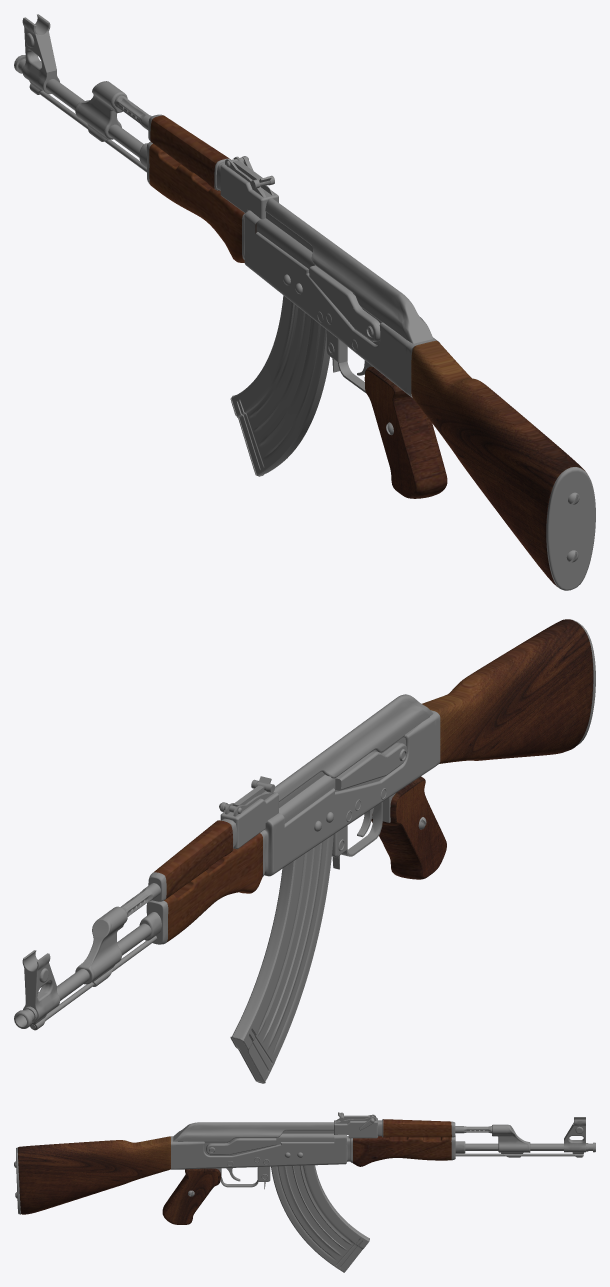
Rendered from ak-47-kalashnikov.fbx.
3 views of the same model, one above another, from view 1: azimuth 30°, elevation 25°; view 2: azimuth 150°, elevation 25°; view 3: azimuth 270°, elevation 25° (orthographic). The views are drawn at different scales.
Visible parts, largest first — view 1: Main, Stock, Magazine, Hand Grip, Pistol Grip; view 2: Main, Stock, Magazine, Hand Grip, Pistol Grip; view 3: Main, Stock, Magazine, Hand Grip, Pistol Grip.
Part boxes in pixels (x1,y1,x2,y2): Main: (14,14,595,590); Stock: (411,340,586,586); Magazine: (230,295,329,476); Hand Grip: (149,115,256,262); Pistol Grip: (364,366,447,498); Main: (14,619,595,1030); Stock: (422,619,593,763); Magazine: (230,835,333,1083); Hand Grip: (154,820,262,941); Pistol Grip: (371,776,446,879); Main: (14,1112,595,1214); Stock: (18,1136,170,1214); Magazine: (271,1165,369,1272); Hand Grip: (353,1119,451,1166); Pistol Grip: (162,1168,220,1224).
Size of the model in its own units: 2.65 by 15.93 by 52.92.
2 materials, 1 textured.
